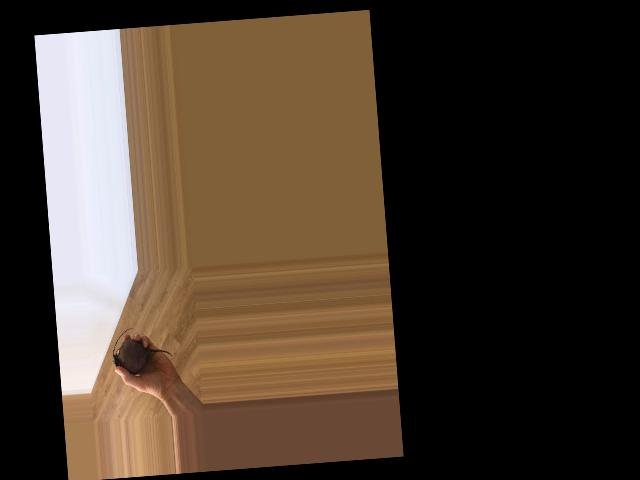beet: (110, 324, 173, 375)
